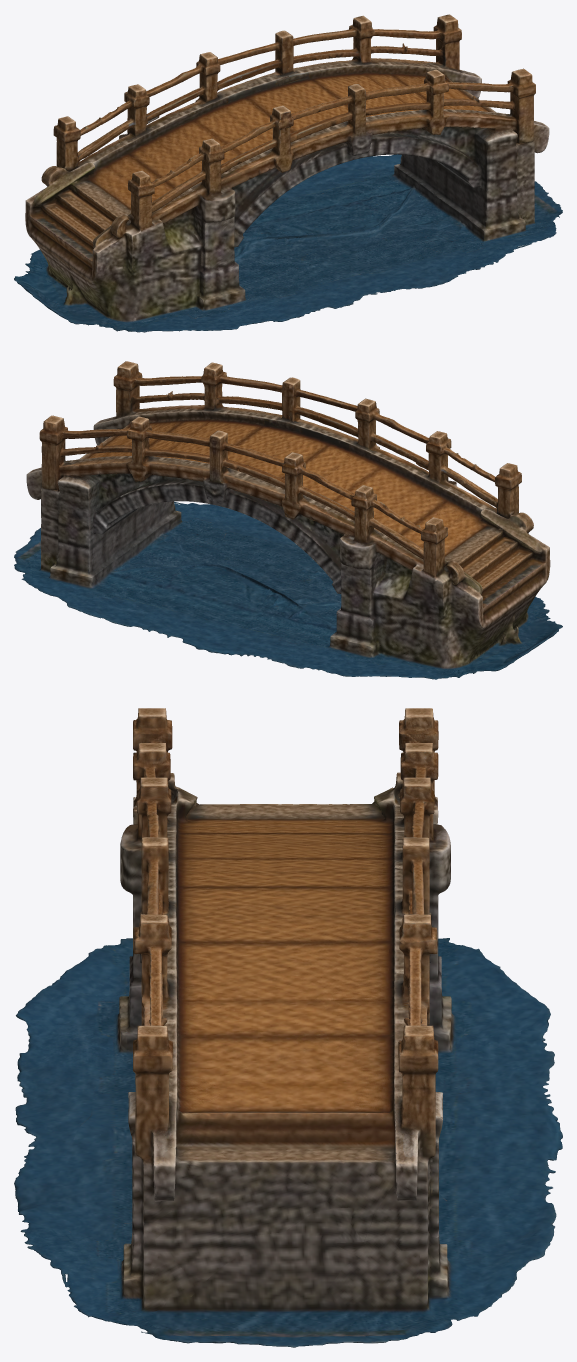
The model's file is Estrutura_md_17.glb.
The picture shows the model from 3 angles, top to bottom: view 1: azimuth 30°, elevation 25°; view 2: azimuth 150°, elevation 25°; view 3: azimuth 270°, elevation 25°; orthographic projection. The views are drawn at different scales.
Bounding box in the file's own units: 1.9 × 0.6478 × 0.9921.
Materials: 1 (1 with a texture image).
